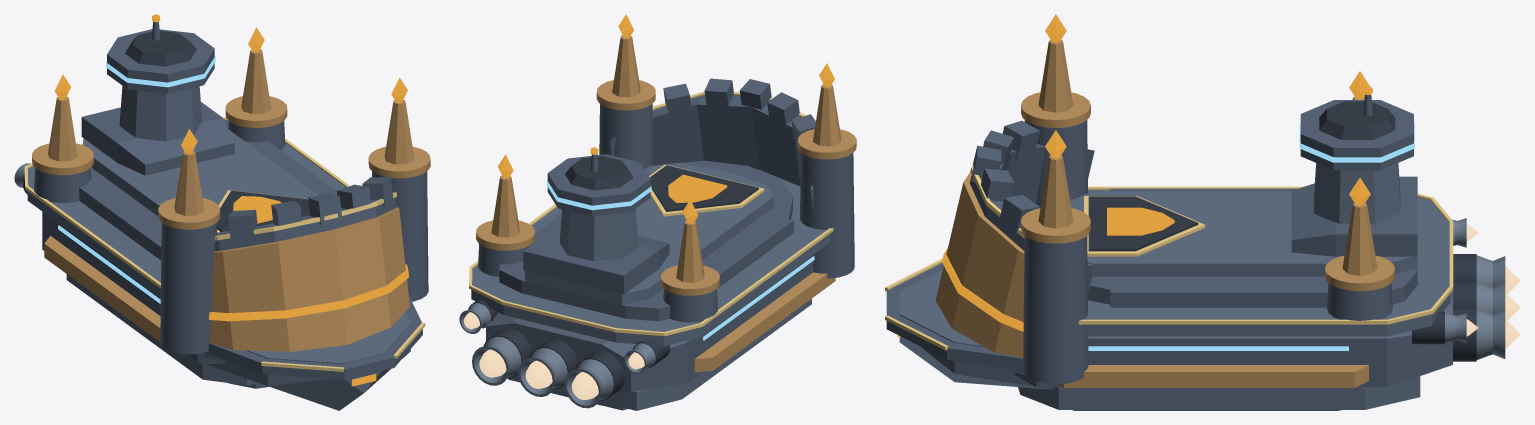
File: bastion.glb
3 views of the same model, side by side, from view 1: azimuth 30°, elevation 25°; view 2: azimuth 150°, elevation 25°; view 3: azimuth 270°, elevation 25° (orthographic). The views are drawn at different scales.
Visible parts, largest first — view 1: bastion; view 2: bastion; view 3: bastion.
Boxes of the visible parts, x1,y1,x2,y2 form: bastion: (14, 14, 430, 410); bastion: (459, 14, 856, 410); bastion: (885, 14, 1520, 410).
Size of the model in its own units: 6.28 by 6.42 by 11.6.
